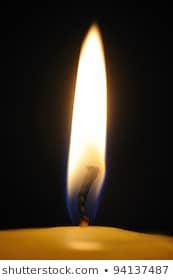fire: (66, 26, 110, 209)
